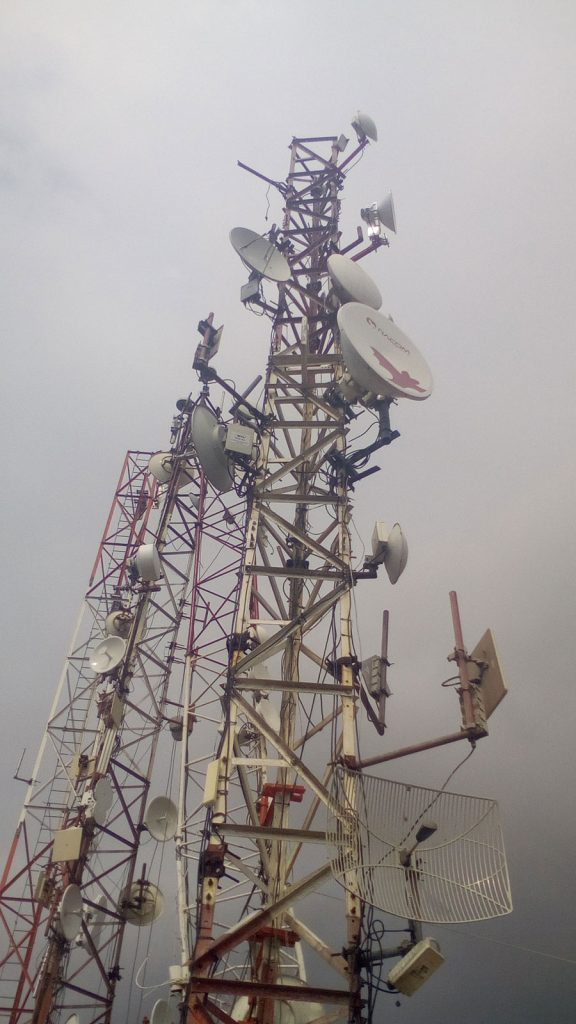ba: (323, 291, 434, 414), (314, 234, 377, 303), (366, 511, 411, 593), (115, 533, 165, 599)
